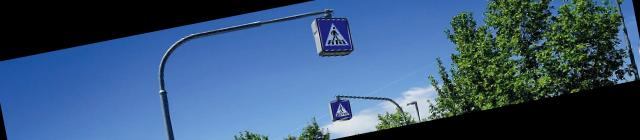crosswalk-sign: (312, 13, 356, 61), (330, 99, 354, 123)
